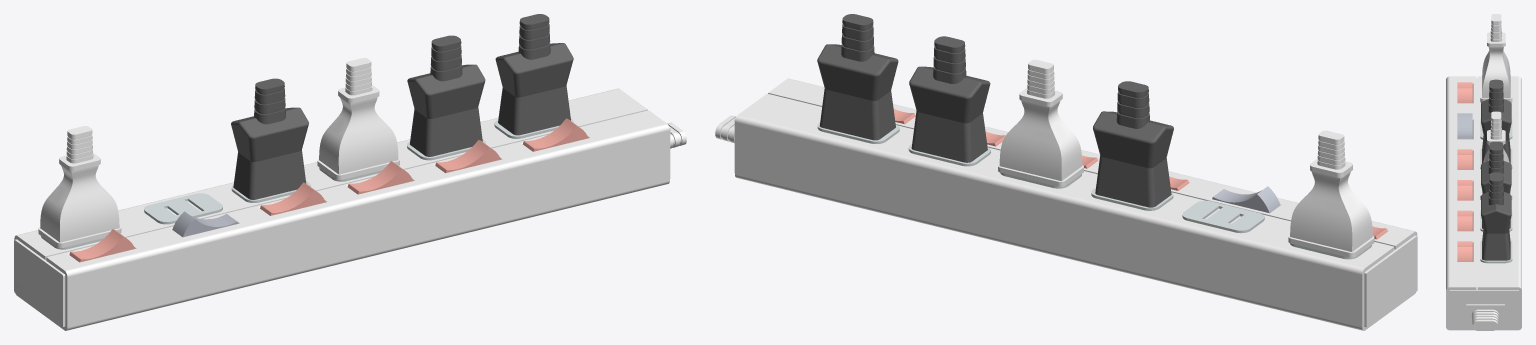
File: 112_いっぱい刺さった延長コード.glb
3 views of the same model, side by side, from view 1: azimuth 30°, elevation 25°; view 2: azimuth 150°, elevation 25°; view 3: azimuth 270°, elevation 25° (orthographic). The views are drawn at different scales.
Visible parts, largest first — view 1: body, 111_コンセントプラグ2, 111_コンセントプラグ1, 111_コンセントプラグ3, 110_コンセントプラグ1, 110_コンセントプラグ2, スイッチ4, スイッチ3, スイッチ5, スイッチ1, スイッチ6, スイッチ2; view 2: body, 111_コンセントプラグ1, 111_コンセントプラグ2, 111_コンセントプラグ3, 110_コンセントプラグ1, 110_コンセントプラグ2, スイッチ2; view 3: body, 111_コンセントプラグ3, 110_コンセントプラグ1, 111_コンセントプラグ1, 111_コンセントプラグ2, 110_コンセントプラグ2, スイッチ2, スイッチ1, スイッチ5, スイッチ3, スイッチ4, スイッチ6.
Boxes of the visible parts, left/top/right/bottom form: body: left=14, top=88, right=686, bottom=330; 111_コンセントプラグ2: left=407, top=35, right=485, bottom=156; 111_コンセントプラグ1: left=231, top=78, right=308, bottom=199; 111_コンセントプラグ3: left=495, top=14, right=573, bottom=135; 110_コンセントプラグ1: left=38, top=126, right=121, bottom=248; 110_コンセントプラグ2: left=317, top=58, right=399, bottom=179; スイッチ4: left=347, top=161, right=413, bottom=194; スイッチ3: left=260, top=182, right=325, bottom=215; スイッチ5: left=435, top=139, right=500, bottom=173; スイッチ1: left=69, top=229, right=134, bottom=262; スイッチ6: left=523, top=118, right=588, bottom=151; スイッチ2: left=172, top=211, right=237, bottom=237; body: left=715, top=78, right=1417, bottom=330; 111_コンセントプラグ1: left=1093, top=81, right=1173, bottom=207; 111_コンセントプラグ2: left=909, top=36, right=990, bottom=162; 111_コンセントプラグ3: left=817, top=14, right=898, bottom=140; 110_コンセントプラグ1: left=1288, top=130, right=1374, bottom=257; 110_コンセントプラグ2: left=998, top=59, right=1083, bottom=186; スイッチ2: left=1212, top=186, right=1280, bottom=213; body: left=1446, top=76, right=1521, bottom=330; 111_コンセントプラグ3: left=1481, top=172, right=1511, bottom=260; 110_コンセントプラグ1: left=1480, top=14, right=1512, bottom=101; 111_コンセントプラグ1: left=1481, top=79, right=1511, bottom=163; 111_コンセントプラグ2: left=1481, top=141, right=1511, bottom=228; 110_コンセントプラグ2: left=1480, top=111, right=1512, bottom=199; スイッチ2: left=1457, top=113, right=1472, bottom=139; スイッチ1: left=1457, top=82, right=1472, bottom=103; スイッチ5: left=1457, top=210, right=1472, bottom=231; スイッチ3: left=1457, top=149, right=1472, bottom=169; スイッチ4: left=1457, top=180, right=1472, bottom=200; スイッチ6: left=1457, top=241, right=1472, bottom=261.
Size of the model in its own units: 0.2795 by 0.0688 by 0.04.
